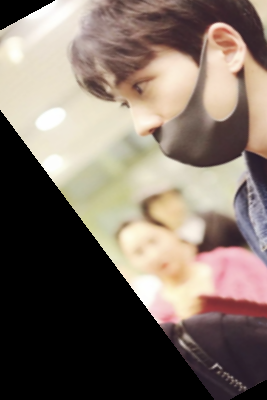mask_weared_incorrect: (56, 2, 267, 170)
